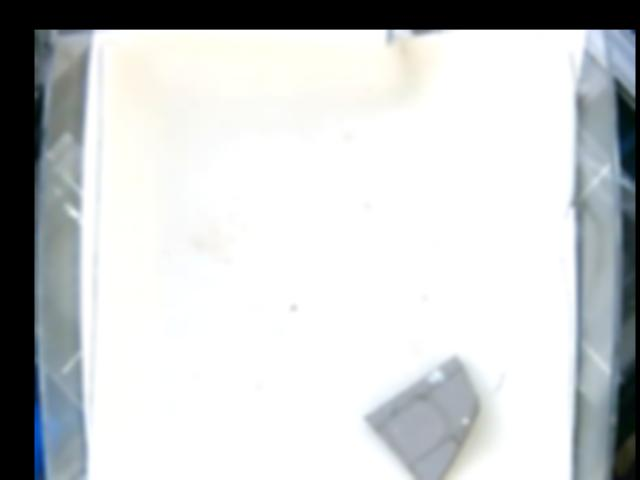China: (362, 351, 478, 480)
